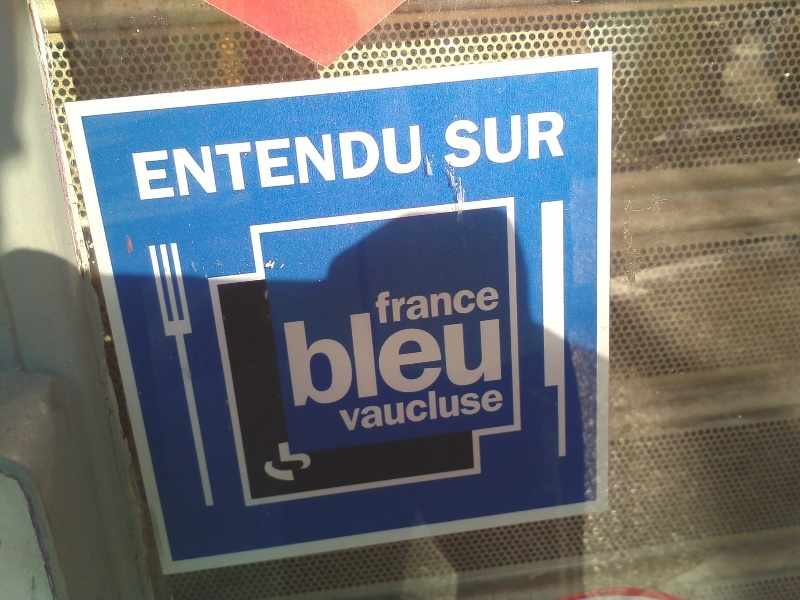text: (289, 299, 304, 411), (305, 299, 320, 411), (321, 299, 336, 411), (337, 299, 352, 411), (353, 299, 368, 411), (369, 299, 384, 411), (385, 299, 400, 411), (401, 299, 416, 411), (417, 299, 432, 411), (433, 299, 448, 411), (449, 299, 464, 411), (465, 299, 480, 411), (481, 299, 496, 411), (145, 122, 160, 205), (161, 122, 176, 205), (177, 122, 192, 205), (193, 122, 208, 205), (209, 122, 224, 205), (225, 122, 240, 205), (241, 122, 256, 205), (257, 122, 272, 205), (273, 122, 288, 205), (289, 122, 304, 205), (305, 122, 320, 205), (321, 122, 336, 205), (337, 122, 352, 205), (353, 122, 368, 205), (369, 122, 384, 205), (385, 122, 400, 205), (401, 122, 416, 205), (130, 122, 144, 205), (279, 299, 288, 411), (497, 299, 506, 411), (449, 108, 464, 172), (465, 108, 480, 172), (481, 108, 496, 172), (497, 108, 512, 172), (513, 108, 528, 172), (529, 108, 544, 172), (545, 108, 560, 172), (337, 381, 352, 437), (353, 381, 368, 437), (369, 381, 384, 437), (385, 381, 400, 437), (401, 381, 416, 437), (417, 381, 432, 437), (433, 381, 448, 437), (449, 381, 464, 437), (465, 381, 480, 437), (481, 381, 496, 437), (417, 122, 427, 205), (385, 278, 400, 328), (401, 278, 416, 328), (417, 278, 432, 328), (433, 278, 448, 328), (449, 278, 464, 328), (465, 278, 480, 328), (481, 278, 496, 328), (439, 108, 448, 172), (373, 278, 384, 328), (497, 381, 506, 437), (561, 108, 568, 172), (497, 278, 502, 328), (334, 381, 336, 437)
